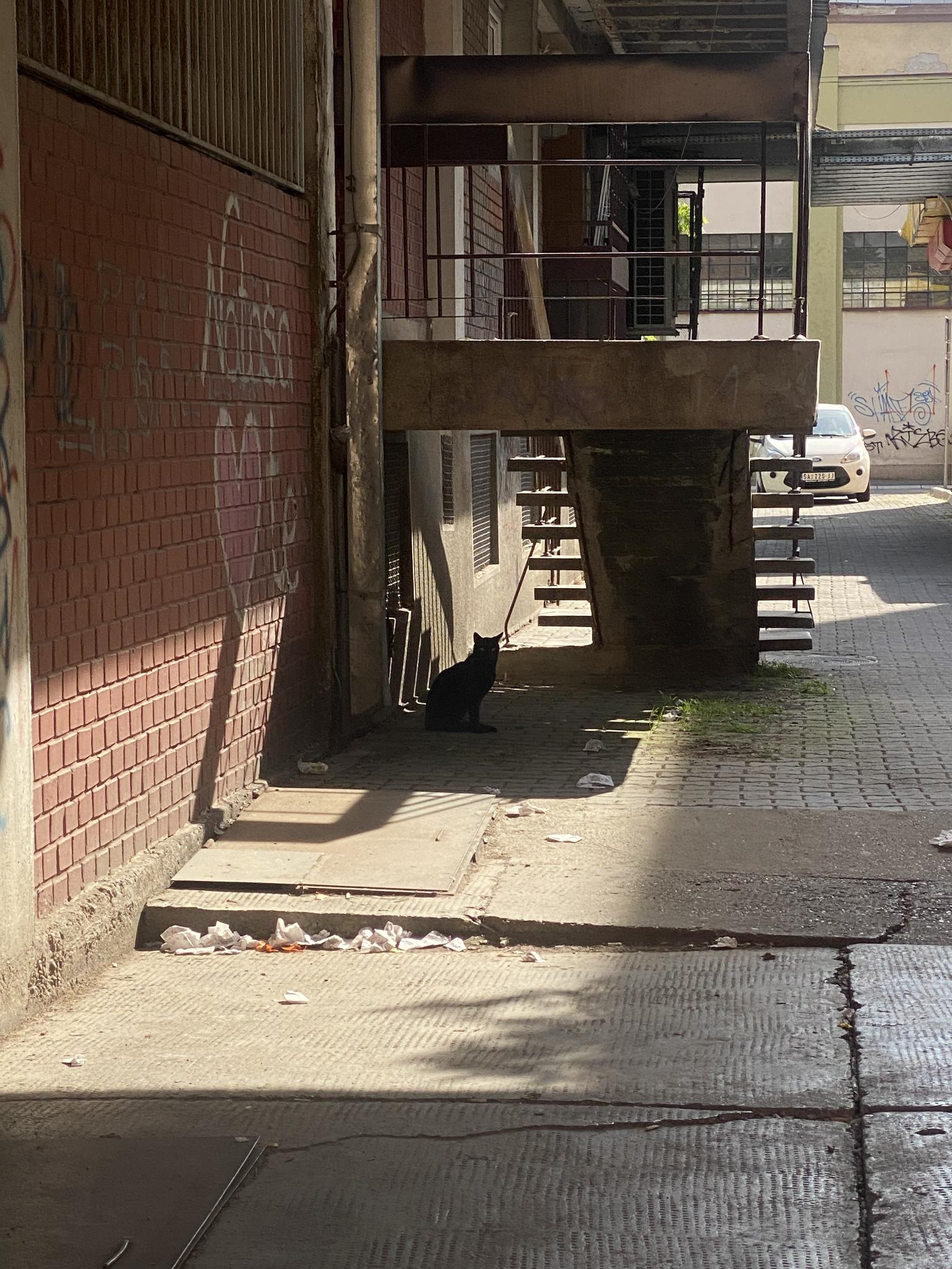macka: (424, 631, 503, 734)
